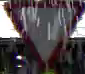Give way: (4, 1, 84, 68)
